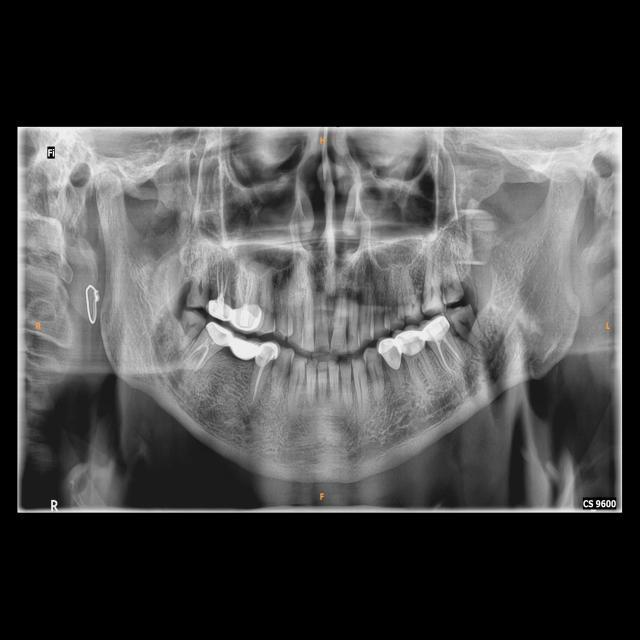dentin-curugu: (442, 280, 451, 300)
kanal-tedavisi: (212, 254, 230, 296), (234, 268, 256, 301), (438, 341, 462, 371), (192, 337, 210, 364), (252, 364, 264, 399)
kaplama: (394, 325, 427, 357), (422, 316, 455, 347), (376, 337, 404, 370), (231, 303, 263, 329), (204, 296, 234, 323), (204, 322, 232, 346), (256, 341, 278, 365)
kopru: (226, 335, 260, 365)
